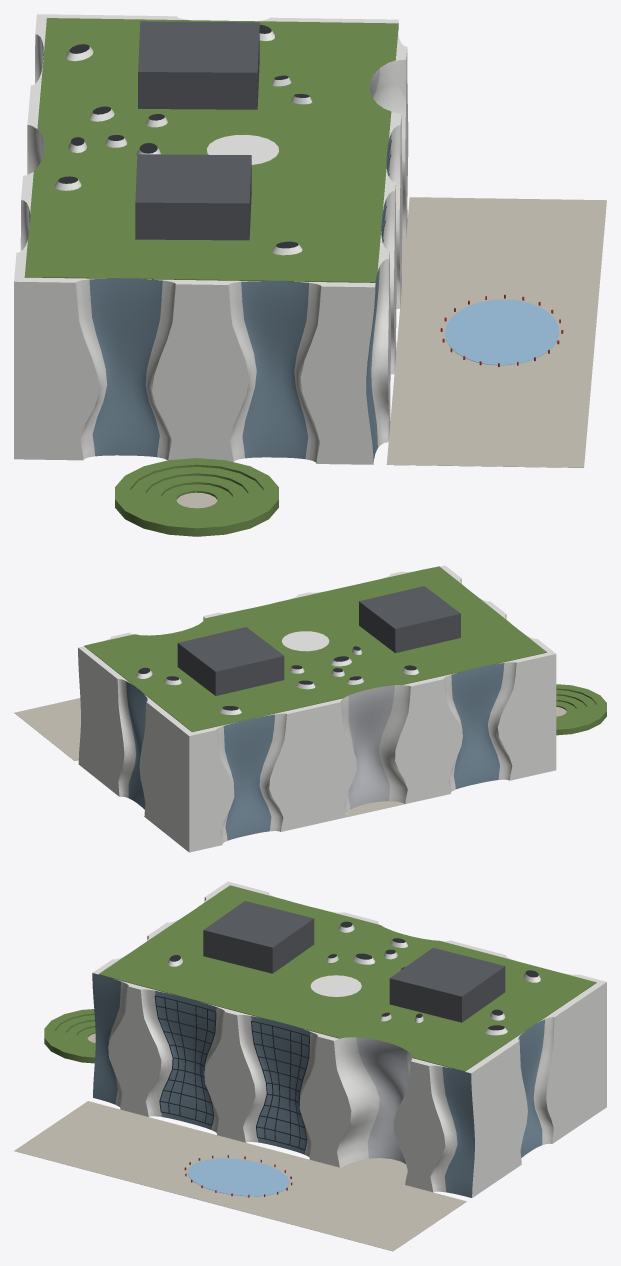
Rendered from national_taichung_theater.glb.
The picture shows the model from 3 angles, top to bottom: view 1: azimuth 30°, elevation 25°; view 2: azimuth 150°, elevation 25°; view 3: azimuth 270°, elevation 25°; orthographic projection. The views are drawn at different scales.
Visible parts, largest first — view 1: national_taichung_theater_mesh; view 2: national_taichung_theater_mesh; view 3: national_taichung_theater_mesh.
Part boxes in pixels (<box>): national_taichung_theater_mesh: <box>14,14,606,536</box>; national_taichung_theater_mesh: <box>14,565,606,852</box>; national_taichung_theater_mesh: <box>14,881,606,1251</box>.
Size of the model in its own units: 158 by 45.7 by 162.
